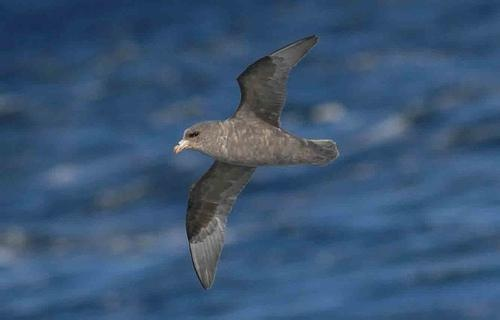bird: (173, 35, 342, 293)
